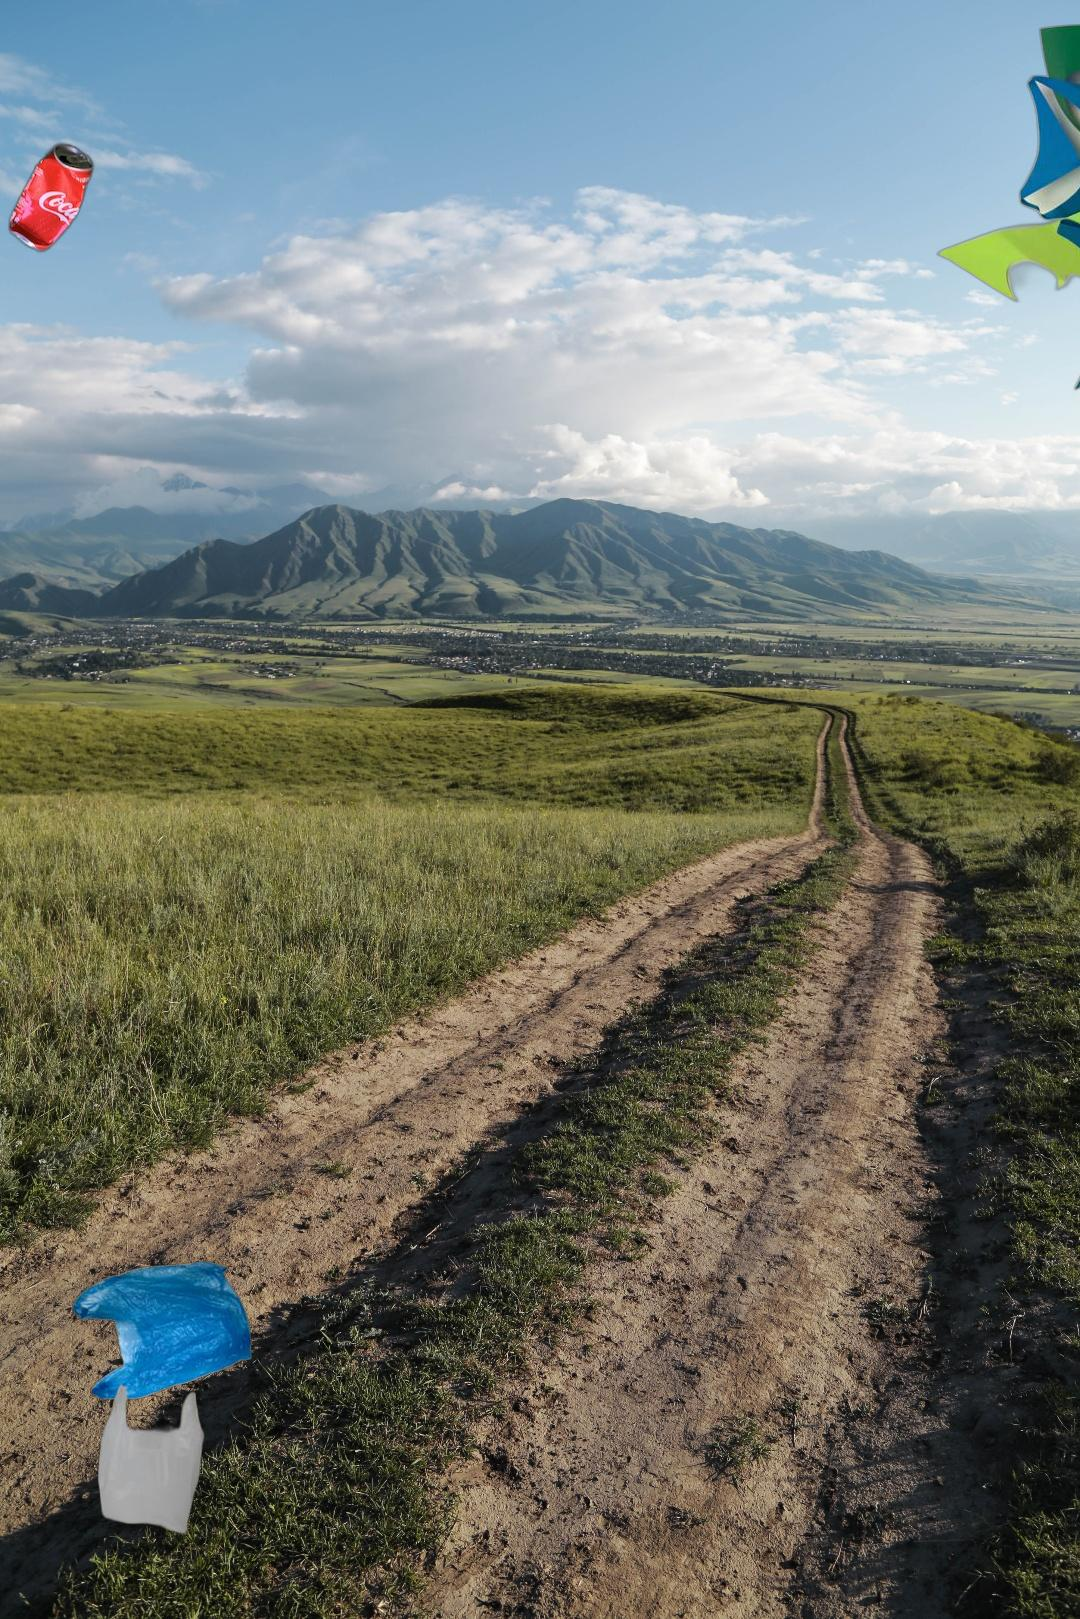metal-cans: (5, 137, 100, 258)
paper: (934, 8, 1080, 393)
plastic-bag: (69, 1260, 256, 1538)
